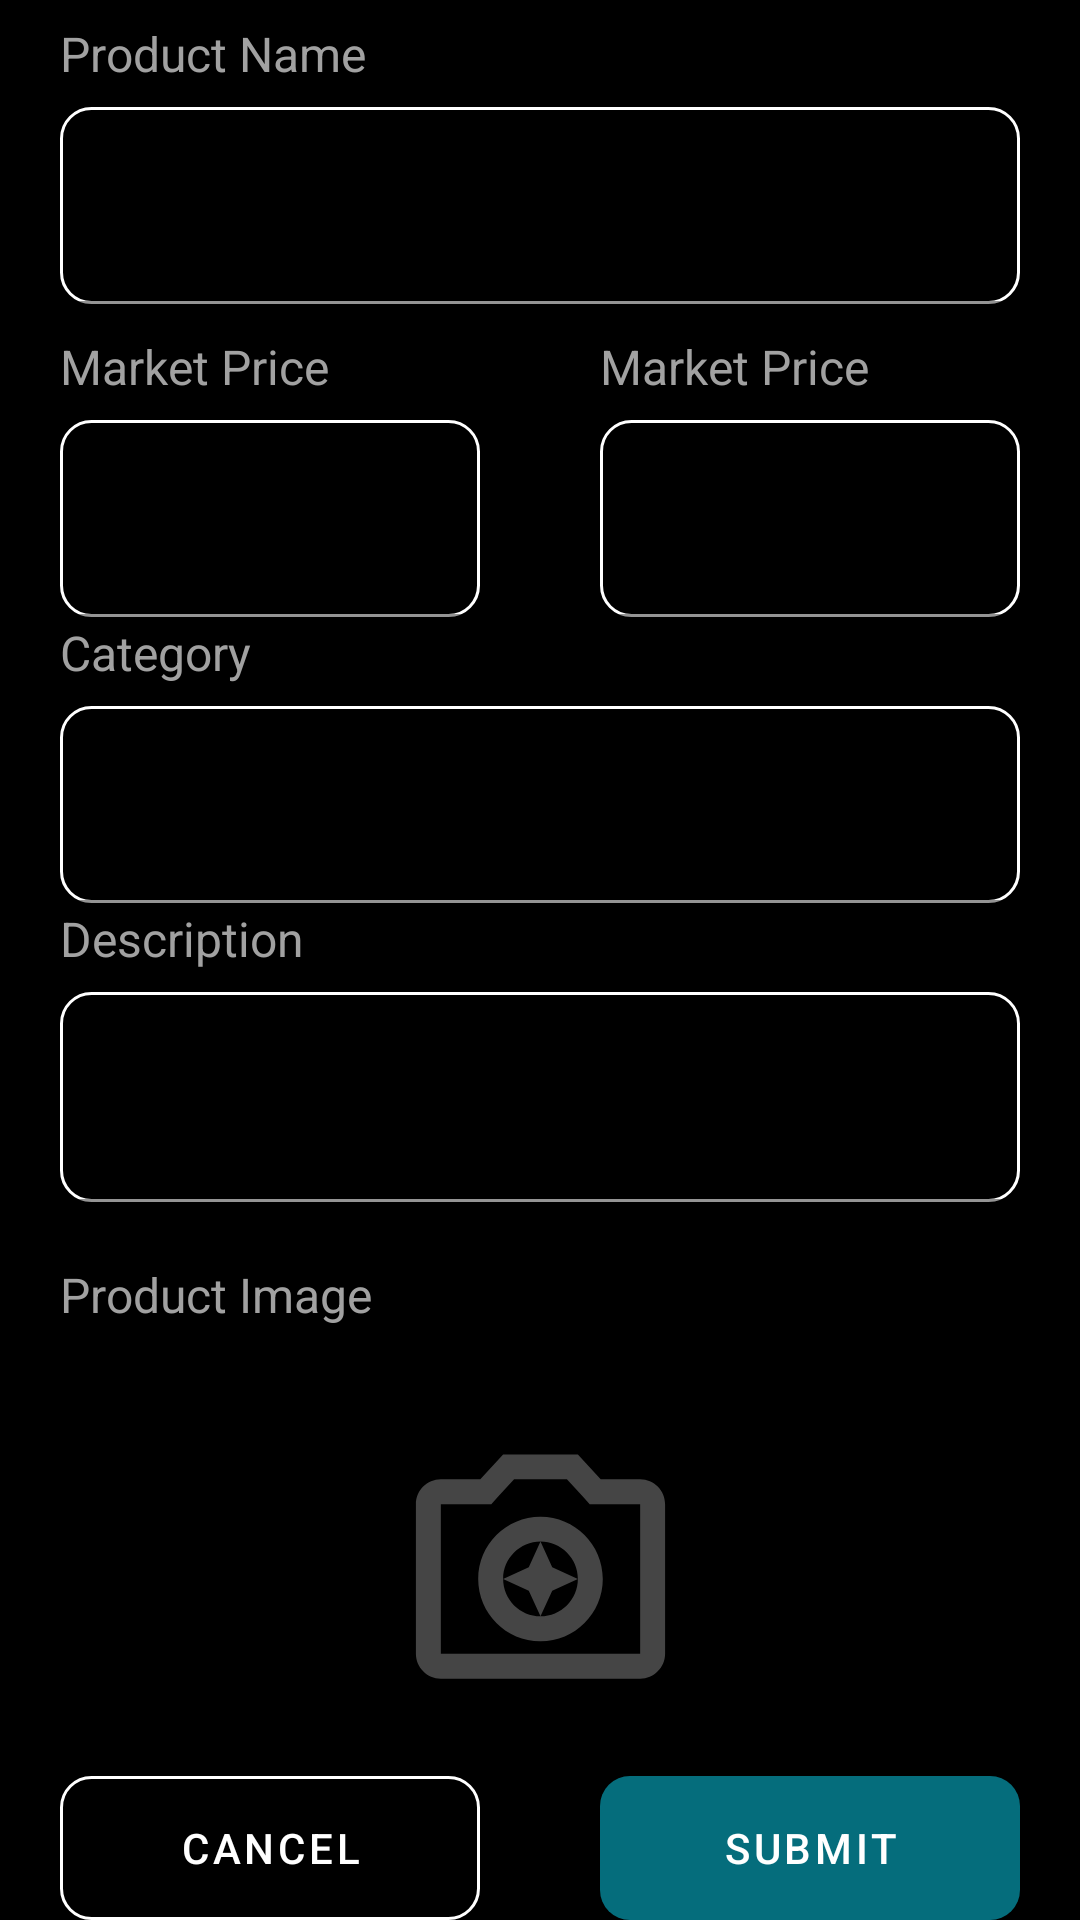

Screen size 1080px×1920px. Icon name, then its center in pixels as [x,y]:
camera enhance: [540,1566]
